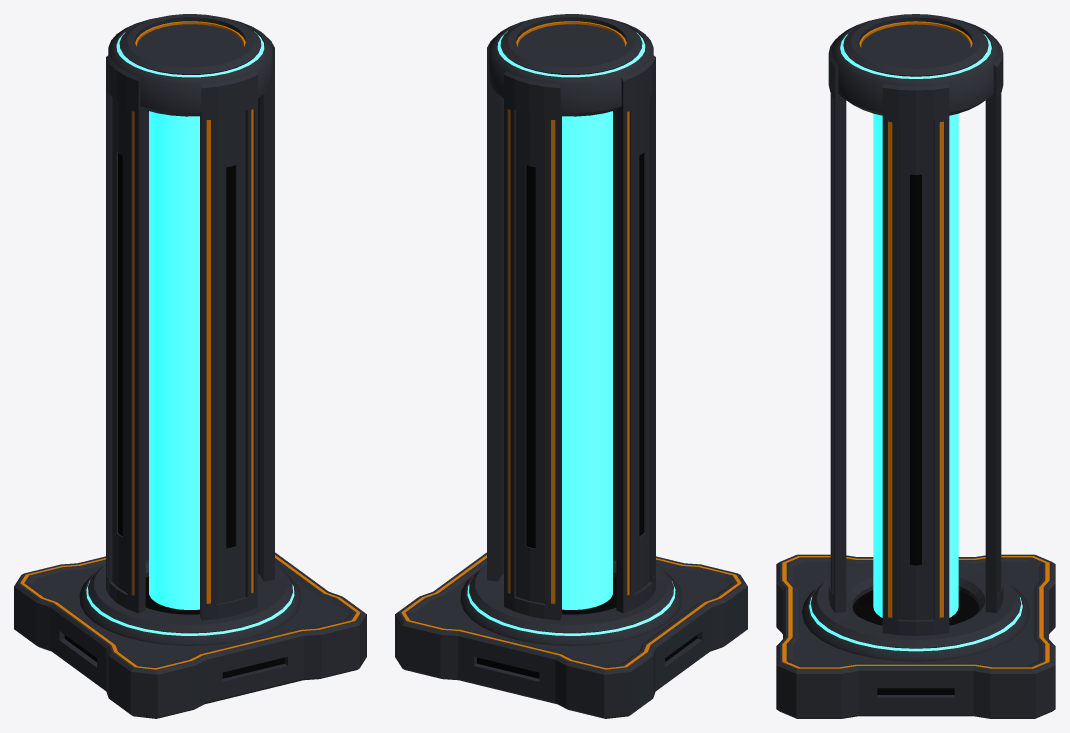
The model's file is SM_Energy_Cell.fbx.
The picture shows the model from 3 angles, left to right: view 1: azimuth 30°, elevation 25°; view 2: azimuth 150°, elevation 25°; view 3: azimuth 270°, elevation 25°; orthographic projection. The views are drawn at different scales.
Parts seen in each view (by area): view 1: SM_Energy_Cell_Base.002; view 2: SM_Energy_Cell_Base.002; view 3: SM_Energy_Cell_Base.002.
Part boxes in pixels (<box>): SM_Energy_Cell_Base.002: <box>14,14,366,718</box>; SM_Energy_Cell_Base.002: <box>395,14,747,718</box>; SM_Energy_Cell_Base.002: <box>776,14,1055,718</box>.
Bounding box in the file's own units: 80 × 196 × 80.
